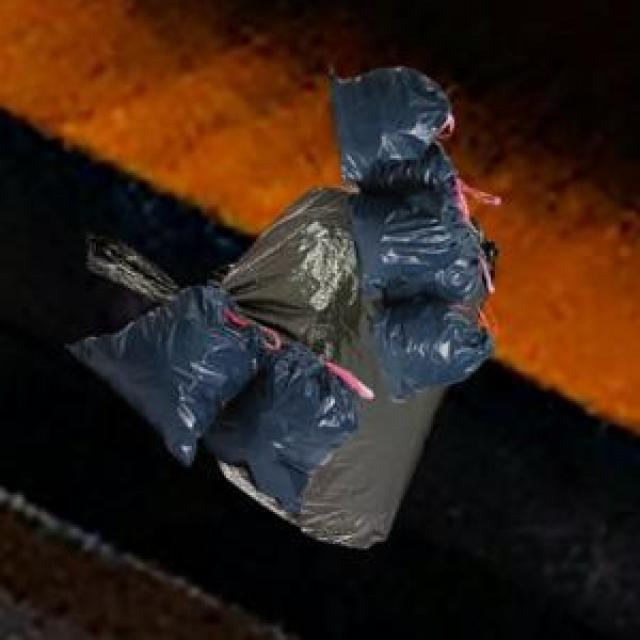Trashbag: (90, 284, 258, 446), (348, 179, 491, 313), (324, 66, 462, 190), (239, 360, 355, 500), (375, 293, 495, 404)
